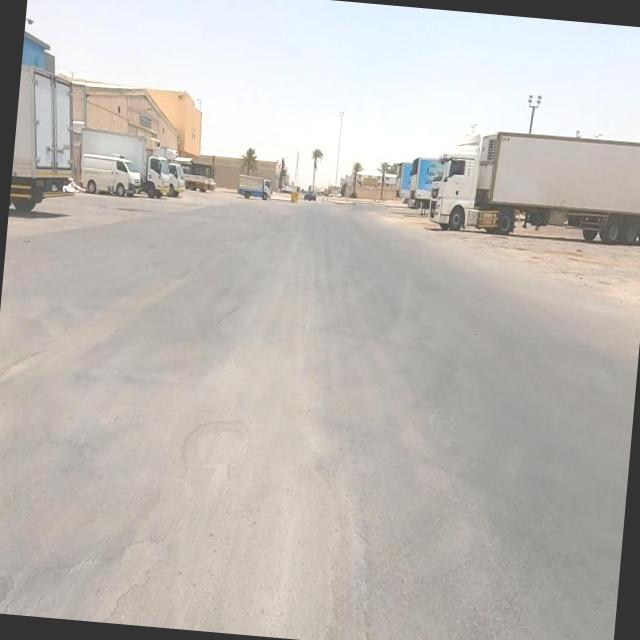debris: (37, 147, 107, 227)
